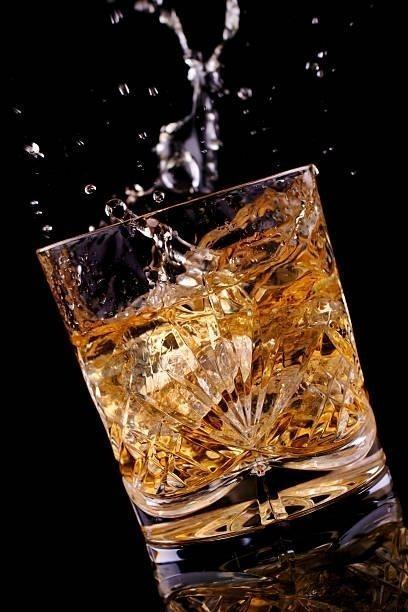glass-normal: (34, 163, 406, 612)
